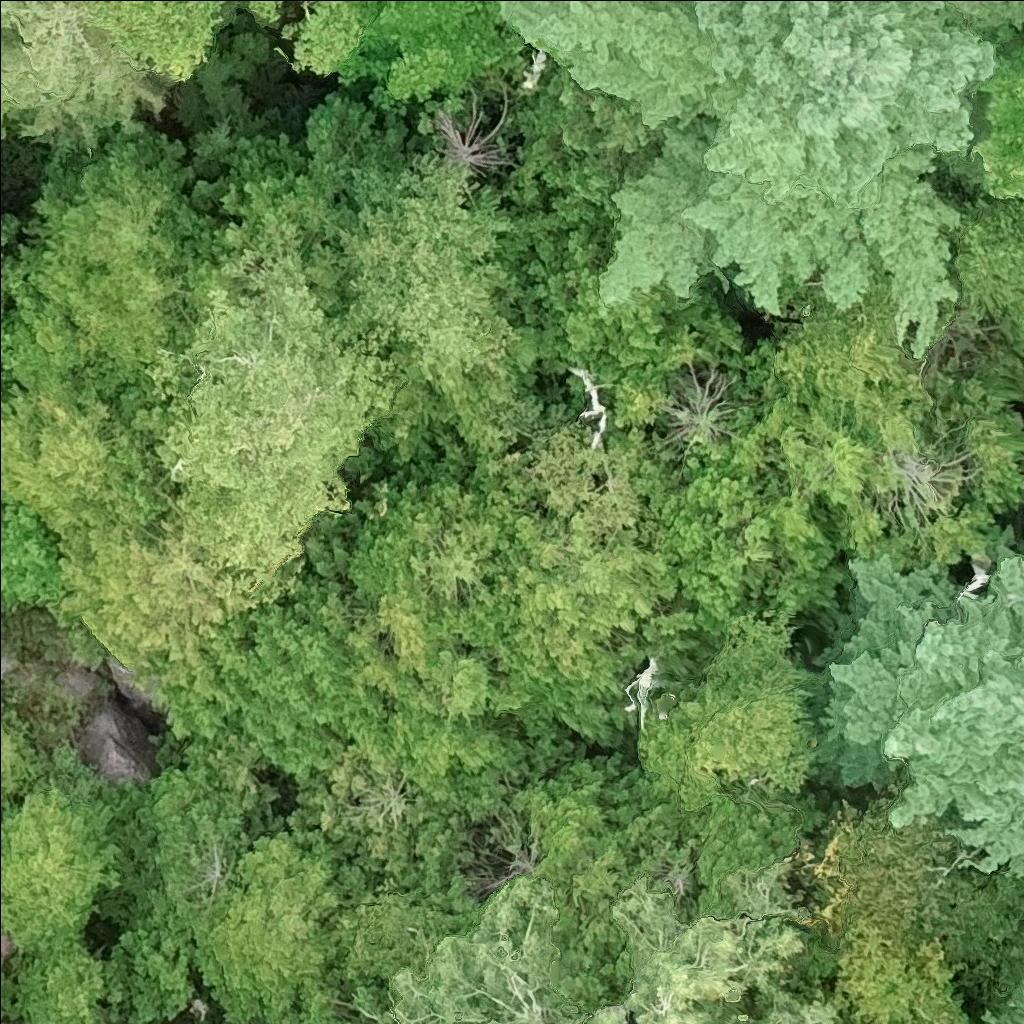crown: (501, 0, 999, 355), (138, 211, 403, 577), (811, 549, 1023, 888), (392, 881, 830, 1023), (328, 168, 540, 458), (4, 119, 221, 390), (503, 215, 745, 430), (91, 732, 280, 944), (638, 609, 821, 804), (0, 320, 175, 523), (192, 830, 374, 1023), (193, 102, 365, 306), (493, 57, 653, 271), (522, 384, 681, 554), (0, 0, 164, 153), (0, 789, 121, 958), (337, 0, 526, 103), (106, 545, 280, 653), (33, 504, 156, 625), (941, 194, 1023, 358), (70, 0, 229, 80), (952, 27, 1023, 200), (322, 82, 434, 180), (456, 392, 572, 481), (661, 364, 759, 468), (106, 928, 193, 1023), (279, 0, 381, 78), (0, 503, 70, 611), (0, 705, 55, 833), (431, 94, 517, 175), (16, 943, 103, 1023), (564, 361, 607, 450), (945, 0, 1023, 44), (625, 656, 665, 732), (0, 257, 17, 373), (226, 0, 280, 28), (0, 966, 21, 1023), (1007, 971, 1023, 1023), (0, 212, 17, 255), (0, 499, 11, 533), (0, 112, 11, 139)
